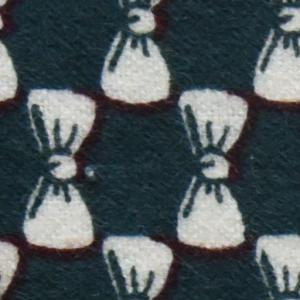Stain: (82, 165, 105, 184)
